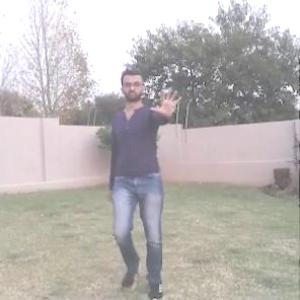follow_hand: (150, 80, 184, 117)
